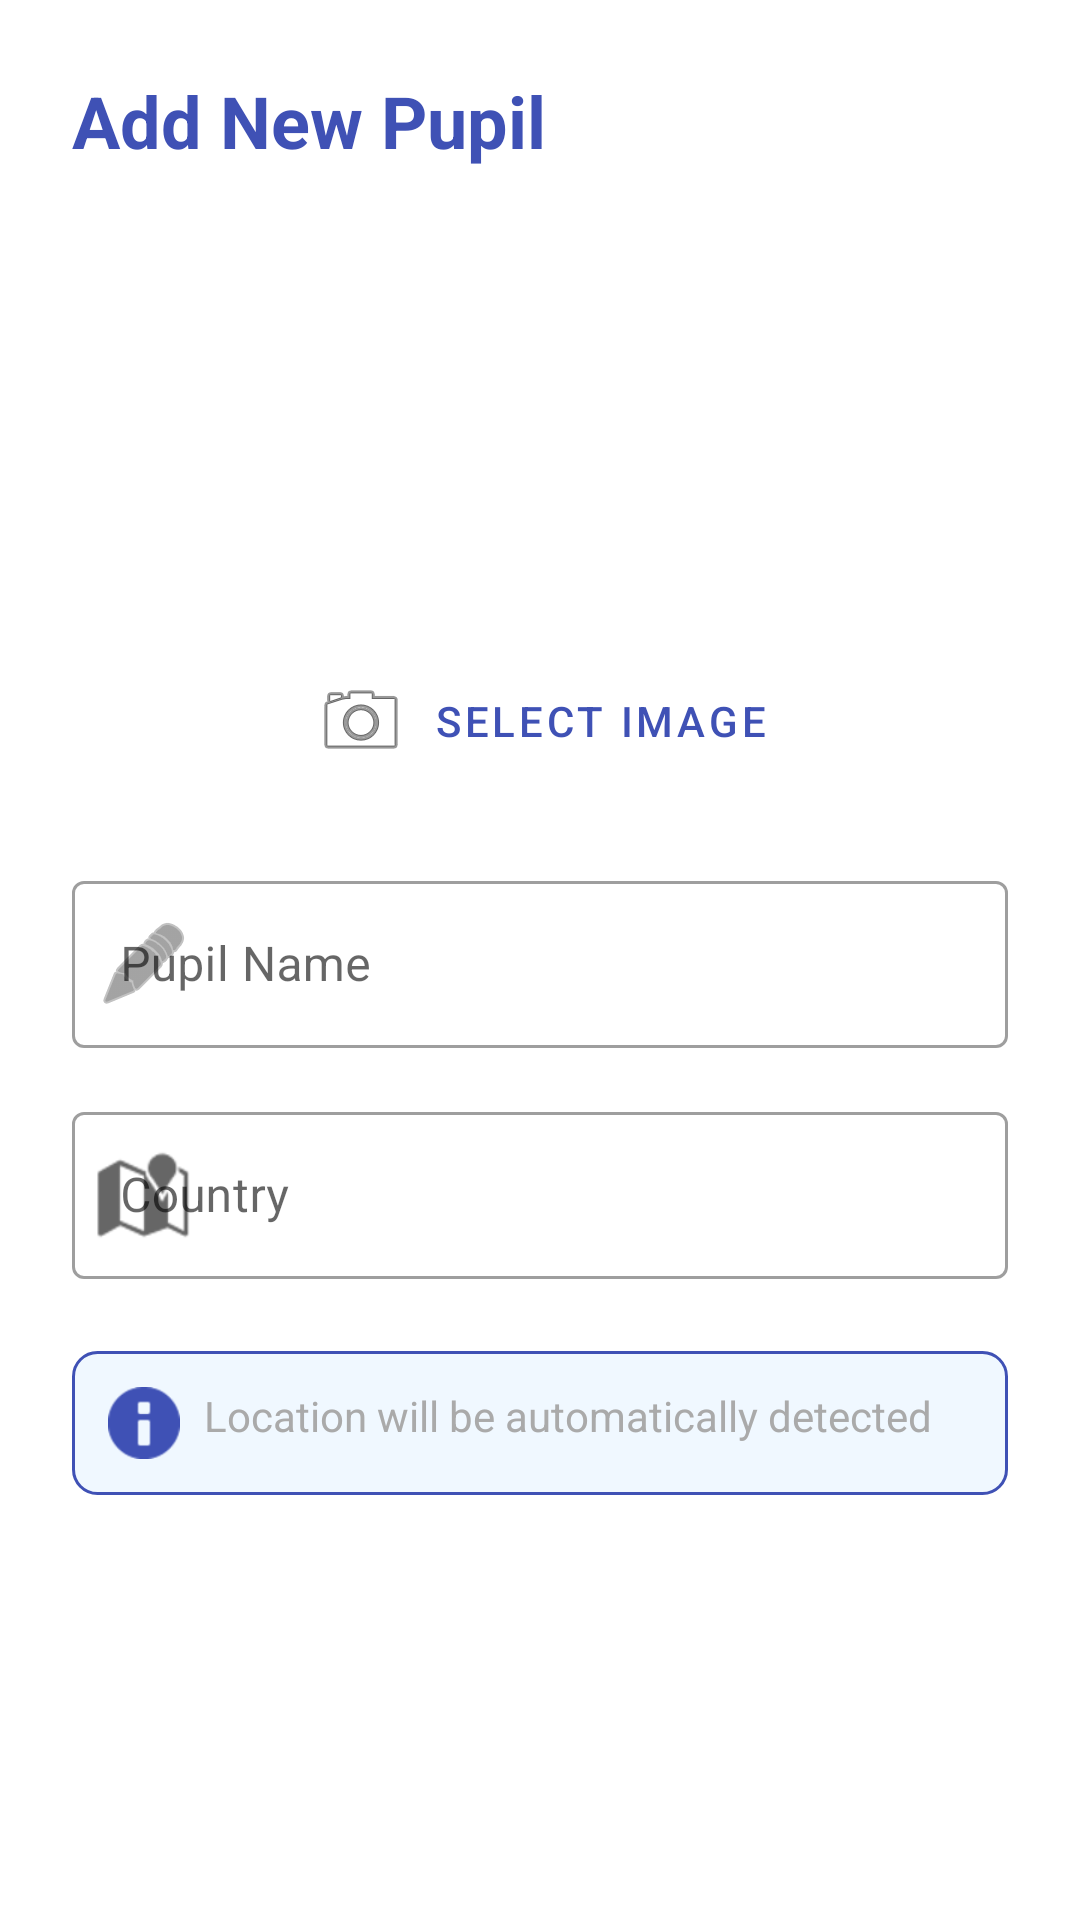

Point at icon controls on the screen. Image size 1080×1920, points as (x,y).
info: (144,1423)
